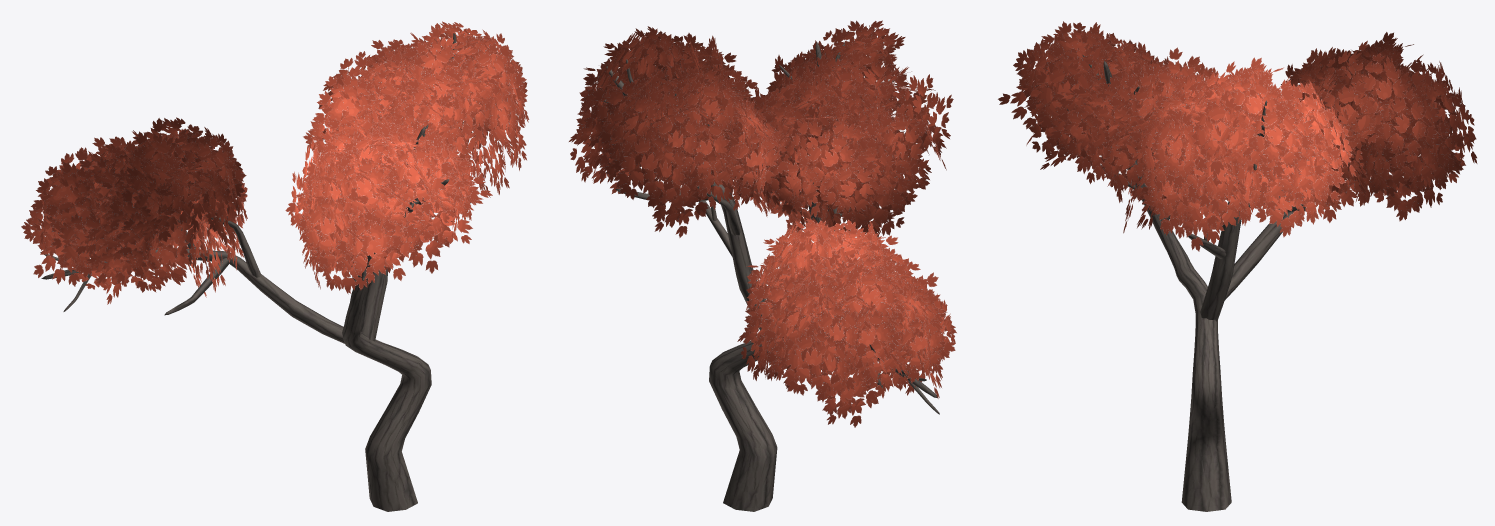
File: tree_maple_red.glb
3 renders of one model, left to right at view 1: azimuth 30°, elevation 25°; view 2: azimuth 150°, elevation 25°; view 3: azimuth 270°, elevation 25°, orthographic. The views are drawn at different scales.
Parts seen in each view (by area): view 1: MapleTree_2; view 2: MapleTree_2; view 3: MapleTree_2.
Boxes of the visible parts, <box> form: MapleTree_2: <box>21,21,529,511</box>; MapleTree_2: <box>569,20,956,511</box>; MapleTree_2: <box>998,21,1477,511</box>.
Bounding box in the file's own units: 6.7 × 6.71 × 6.24.
Materials: 2 (2 with a texture image).
